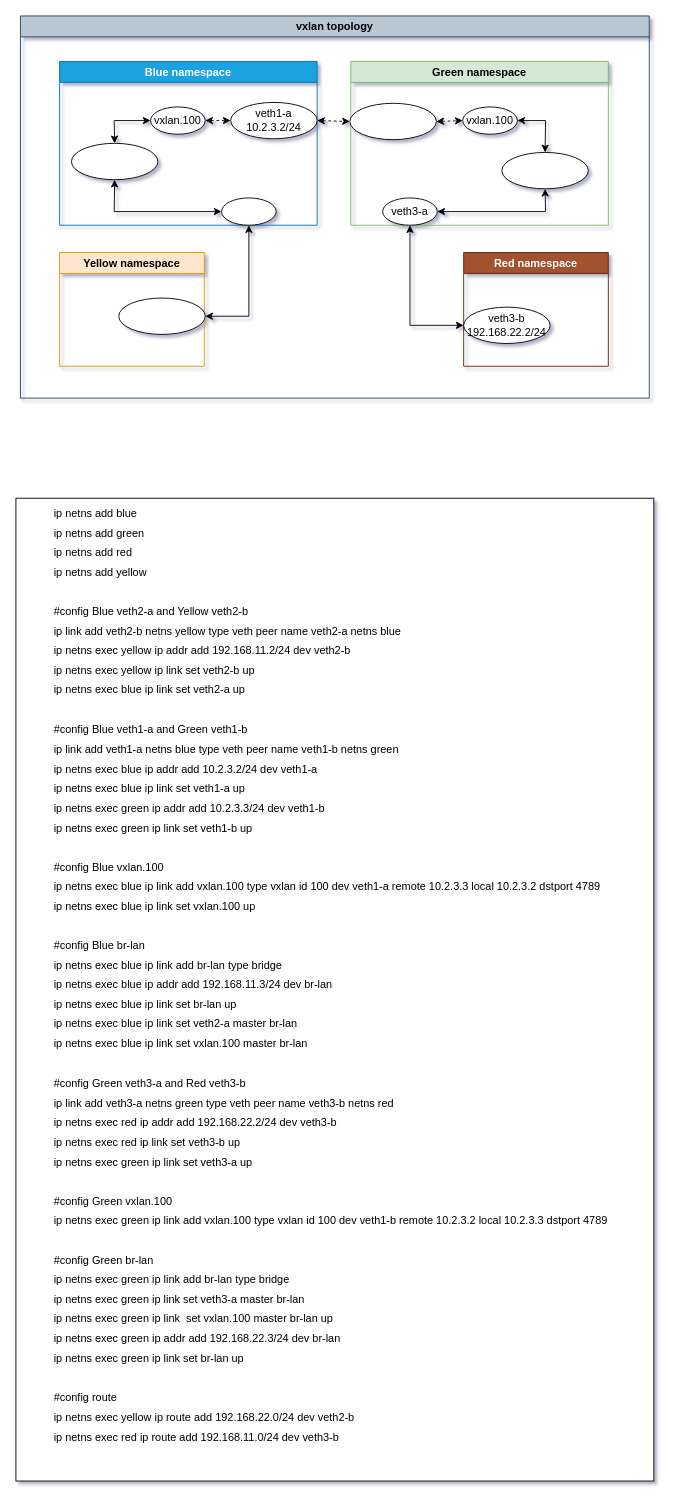
Image size: 675x1502. Some labels were removed from this diagram. Each missing label, with the centre of its shape:
br-lan 192.168.11.3/24: the point at 114,161
br-lan 192.168.22.3/24: the point at 544,170
veth1-b 10.2.3.3/24: the point at 392,121
veth2-a: the point at 248,211
veth2-b 192.168.11.2/24: the point at 161,315
